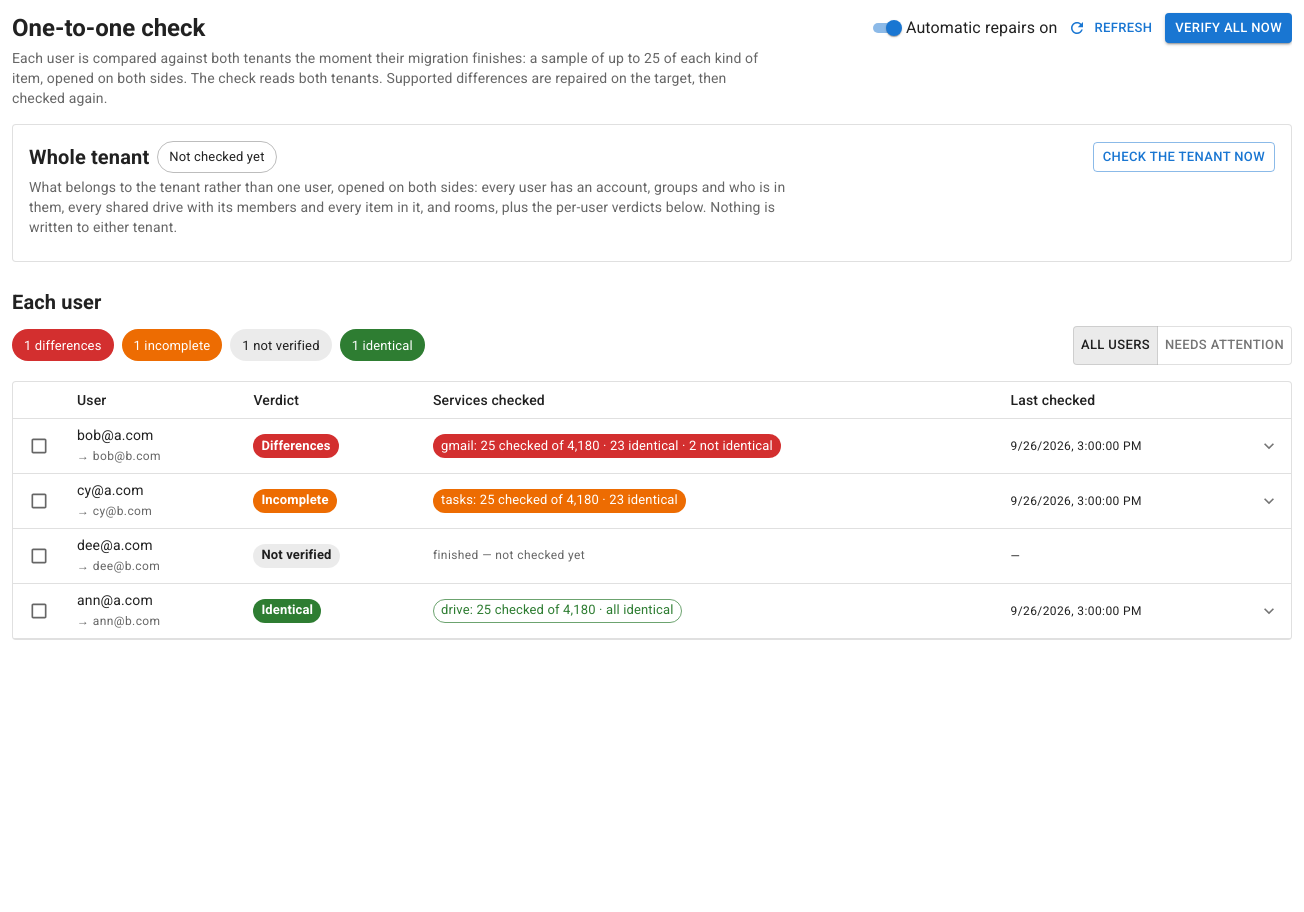
Test: what is found › shows why a check could not be made
The width and height of the screenshot is (1304, 912).
Click the button named "show cy@a.com". click: [1269, 501]
box: [1259, 491, 1279, 511]
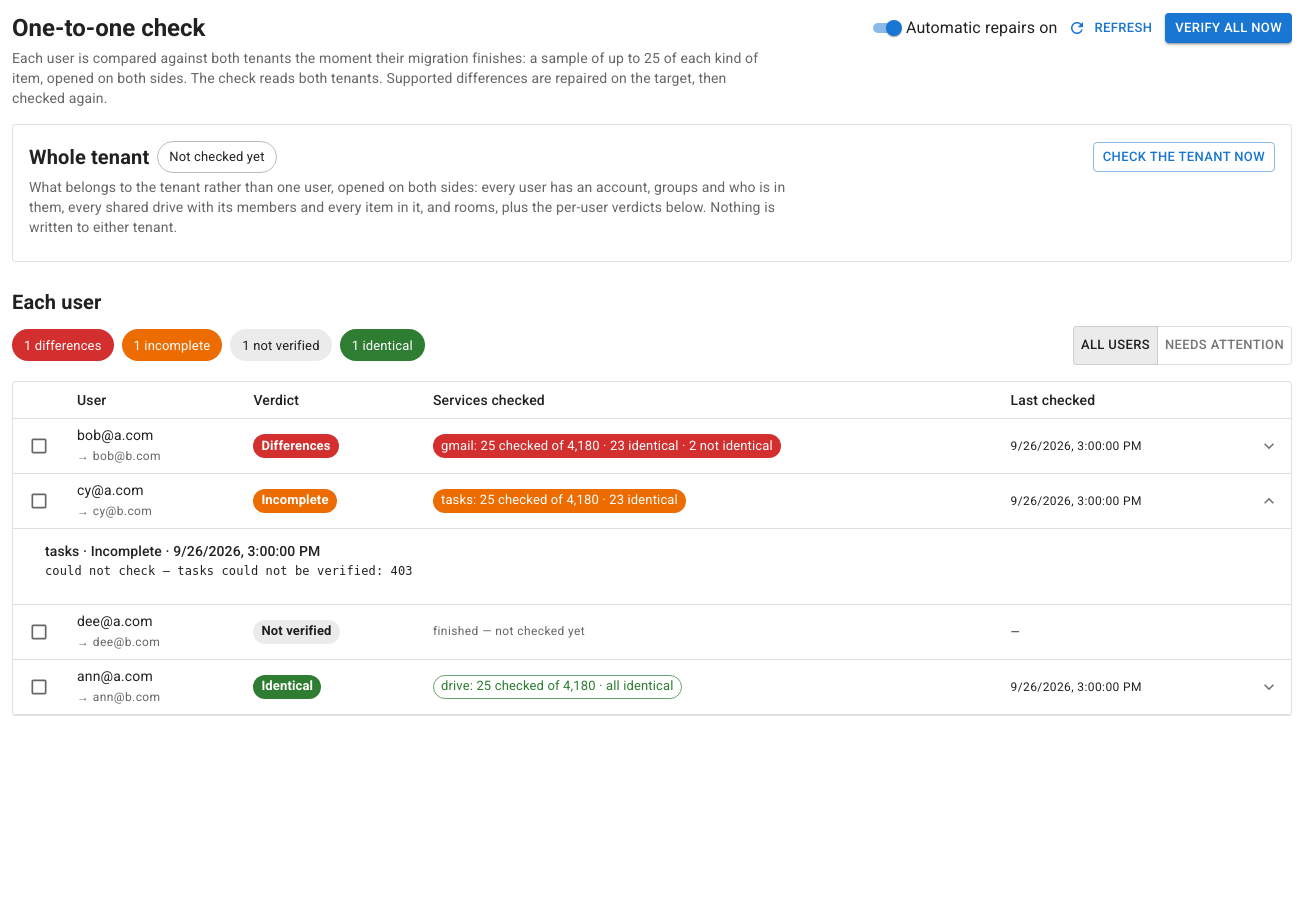
Expected: the text "could not check — tasks could not be verified: 403" is shown, [45, 564, 413, 578]
